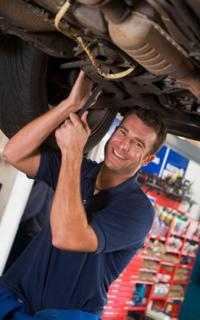person: (1, 67, 169, 320)
